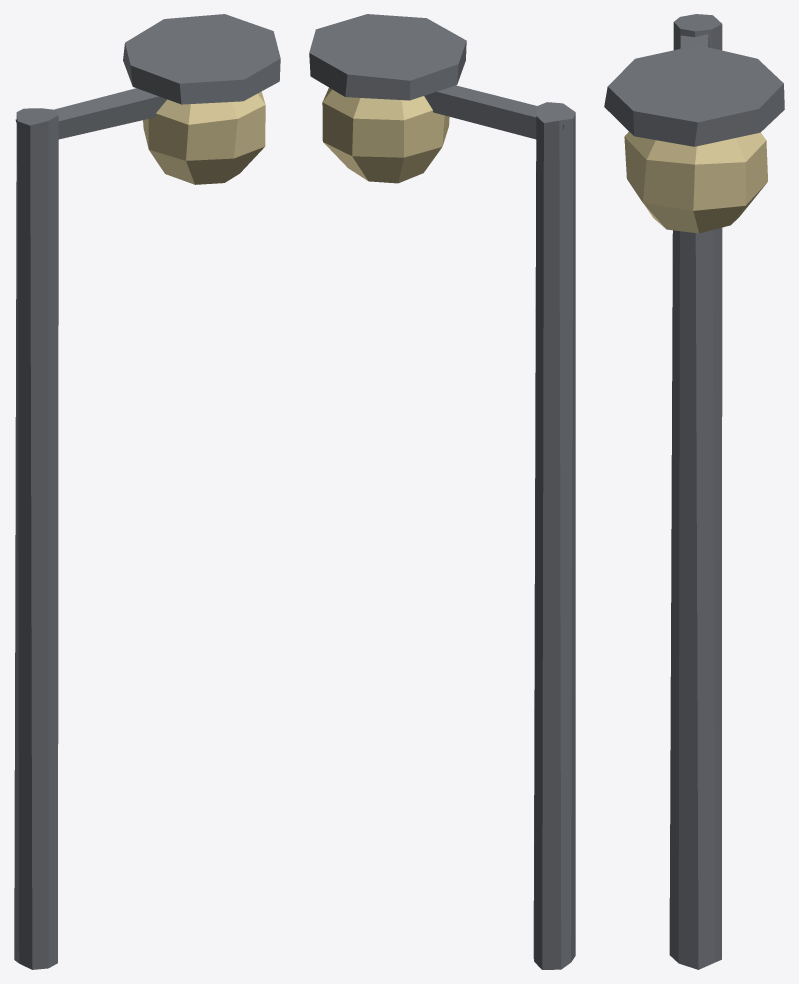
The model's file is lamppost.fbx.
3 views of the same model, side by side, from view 1: azimuth 30°, elevation 25°; view 2: azimuth 150°, elevation 25°; view 3: azimuth 270°, elevation 25° (orthographic). The views are drawn at different scales.
Visible parts, largest first — view 1: LampPost; view 2: LampPost; view 3: LampPost.
Part boxes in pixels (<box>): LampPost: <box>14,14,280,969</box>; LampPost: <box>309,14,575,969</box>; LampPost: <box>604,14,784,969</box>.
Size of the model in its own units: 0.957 by 3.1 by 0.5255.
